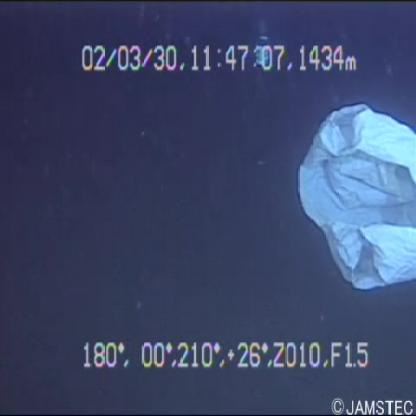Rác: (295, 71, 416, 287)
